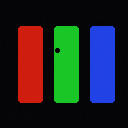0 point: (55, 48, 59, 52)
